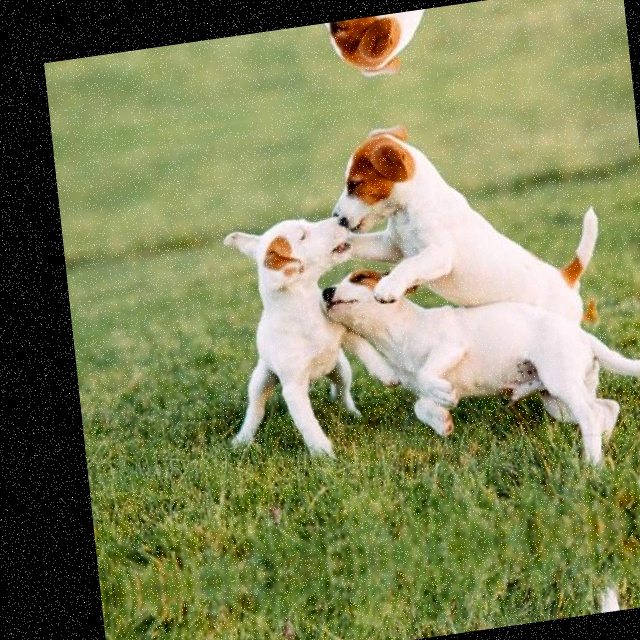dog: (328, 90, 636, 364), (317, 0, 607, 88)
